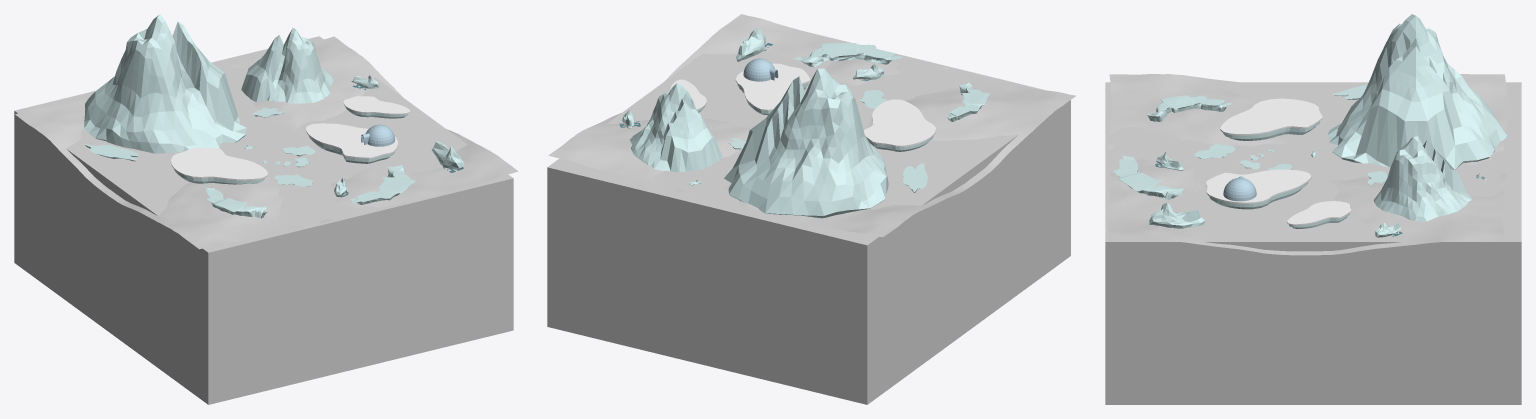
File: 破碎的冰山.fbx
The picture shows the model from 3 angles, left to right: view 1: azimuth 30°, elevation 25°; view 2: azimuth 150°, elevation 25°; view 3: azimuth 270°, elevation 25°; orthographic projection. The views are drawn at different scales.
Parts seen in each view (by area): view 1: Ocean, 平面, Ico 球體.002, Ico 球體.003, 貝茲曲線.004, 貝茲曲線.003, 貝茲曲線.005, Cube, Cube.001, 雪屋, Ico 球體.006, 貝茲曲線.012; view 2: Ocean, 平面, Ico 球體.002, Ico 球體.003, 貝茲曲線.004, 貝茲曲線.003, Cube, Cube.001, 雪屋, Ico 球體.006, 貝茲曲線.012; view 3: Ocean, 平面, Ico 球體.002, Ico 球體.003, 貝茲曲線.004, 貝茲曲線.003, Cube, 貝茲曲線.005, Cube.001, Ico 球體.006, 雪屋, 貝茲曲線.008.
Part boxes in pixels (box(x1,y1,x2,y2)): Ocean: box(14, 36, 513, 404); 平面: box(15, 36, 518, 249); Ico 球體.002: box(84, 14, 246, 153); Ico 球體.003: box(241, 28, 333, 103); 貝茲曲線.004: box(171, 147, 267, 184); 貝茲曲線.003: box(306, 123, 397, 163); 貝茲曲線.005: box(343, 96, 410, 118); Cube: box(351, 165, 415, 204); Cube.001: box(205, 187, 267, 218); 雪屋: box(361, 124, 395, 146); Ico 球體.006: box(432, 141, 464, 170); 貝茲曲線.012: box(85, 144, 138, 161); Ocean: box(547, 33, 1070, 404); 平面: box(548, 14, 1076, 237); Ico 球體.002: box(724, 68, 888, 218); Ico 球體.003: box(630, 83, 722, 172); 貝茲曲線.004: box(863, 99, 935, 151); 貝茲曲線.003: box(735, 63, 810, 115); Cube: box(793, 43, 902, 67); Cube.001: box(946, 82, 989, 121); 雪屋: box(743, 58, 778, 81); Ico 球體.006: box(736, 28, 765, 61); 貝茲曲線.012: box(903, 163, 927, 192); Ocean: box(1105, 82, 1521, 404); 平面: box(1107, 74, 1507, 255); Ico 球體.002: box(1327, 14, 1506, 169); Ico 球體.003: box(1373, 136, 1471, 221); 貝茲曲線.004: box(1220, 98, 1322, 140); 貝茲曲線.003: box(1206, 169, 1311, 209); Cube: box(1113, 155, 1184, 200); 貝茲曲線.005: box(1287, 201, 1351, 228); Cube.001: box(1145, 95, 1231, 121); Ico 球體.006: box(1150, 202, 1204, 228); 雪屋: box(1223, 176, 1256, 201); 貝茲曲線.008: box(1194, 143, 1235, 159).
Bounding box in the file's own units: 18879 × 14691 × 19793.
